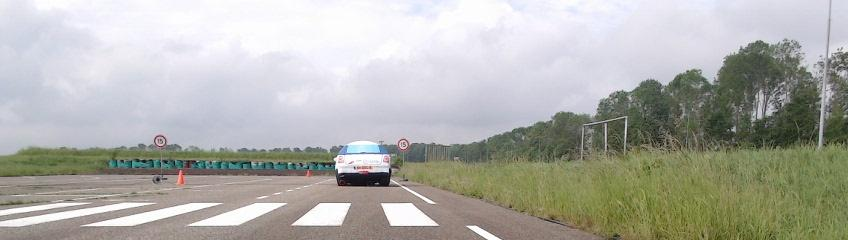Car: (335, 140, 391, 186)
Speed-limit-15km-h-: (154, 135, 167, 147), (397, 138, 410, 150)
